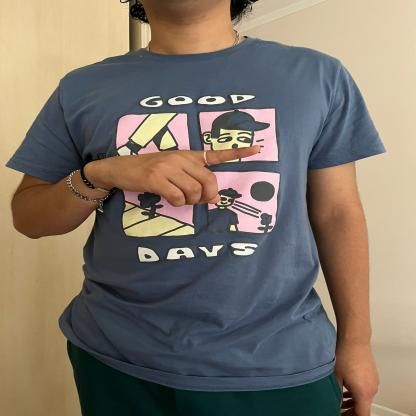S: (92, 140, 268, 212)
